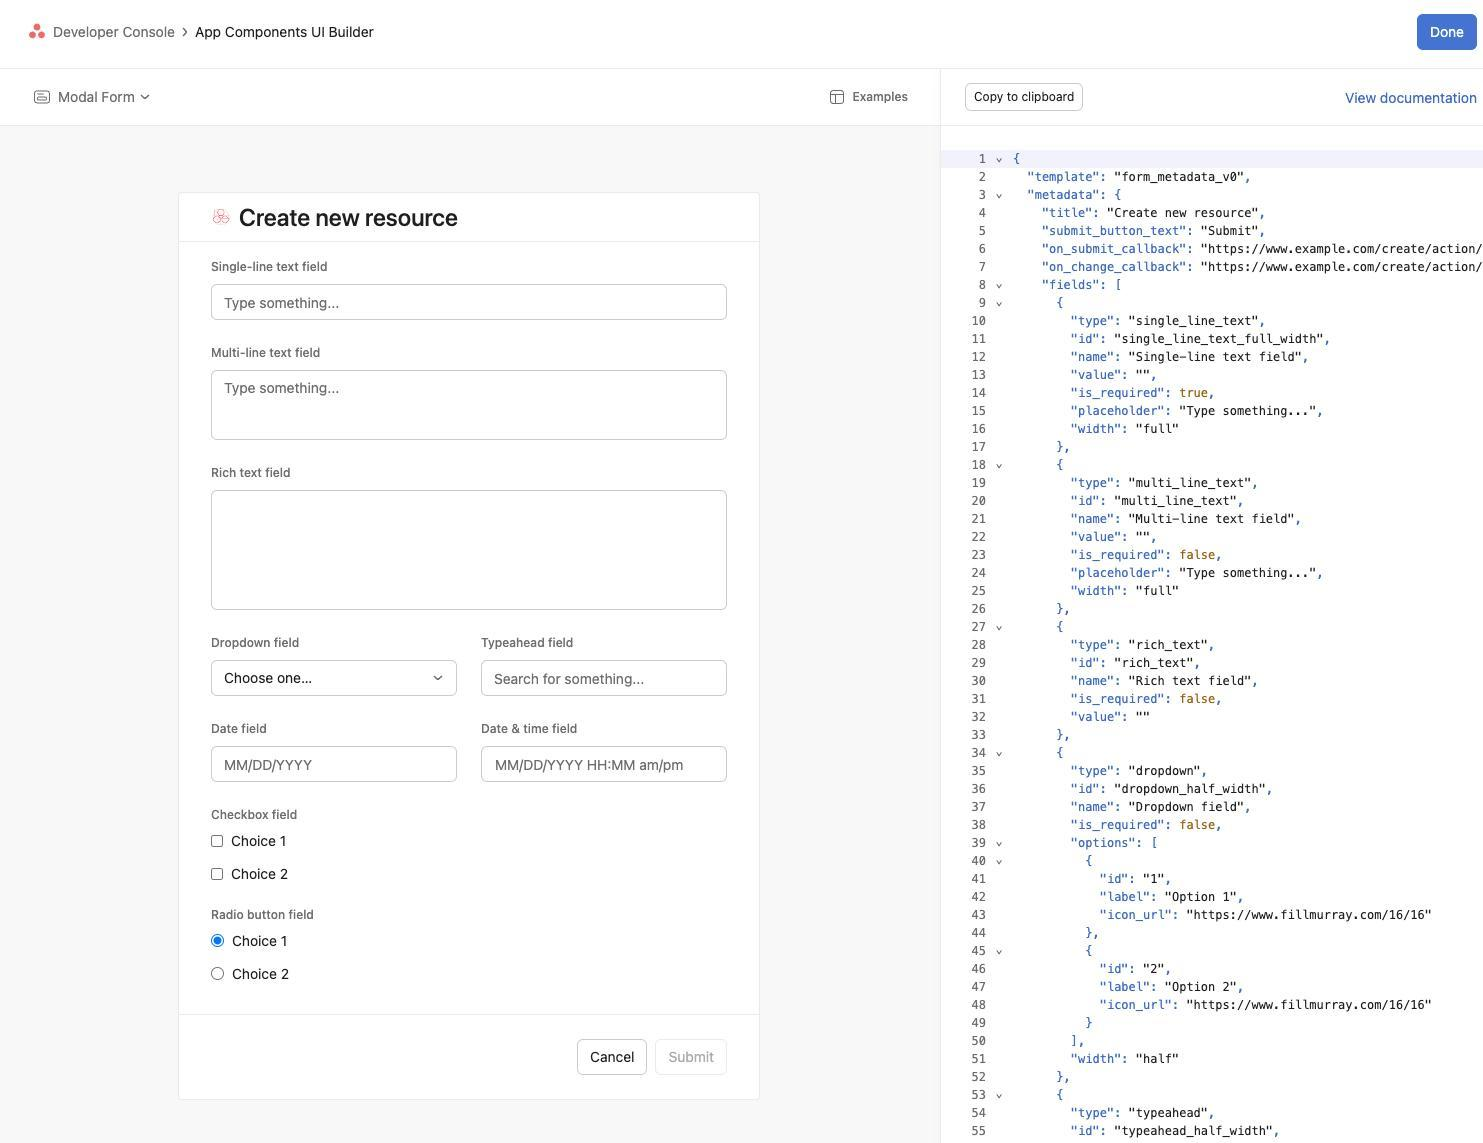button: (967, 83, 1086, 112), (654, 1040, 726, 1076), (578, 1040, 648, 1076), (1417, 14, 1478, 52)
checkbox: (213, 834, 225, 848), (211, 869, 225, 881)
dropdown: (213, 662, 458, 696), (58, 91, 155, 106)
icon: (32, 88, 54, 108), (830, 89, 847, 108)
input: (213, 371, 726, 439), (213, 285, 726, 321), (482, 662, 726, 698), (213, 747, 458, 782), (482, 747, 726, 782)
label: (240, 208, 461, 231), (1344, 92, 1479, 106), (482, 723, 580, 738), (210, 347, 325, 360), (213, 910, 316, 924), (210, 636, 305, 652), (211, 262, 330, 273), (482, 638, 576, 651), (211, 466, 295, 480), (233, 967, 293, 985), (213, 810, 300, 822), (232, 866, 291, 882), (853, 90, 911, 104), (232, 935, 291, 950), (231, 834, 288, 849), (213, 724, 271, 736)
radio: (211, 935, 226, 948), (213, 968, 225, 981)
